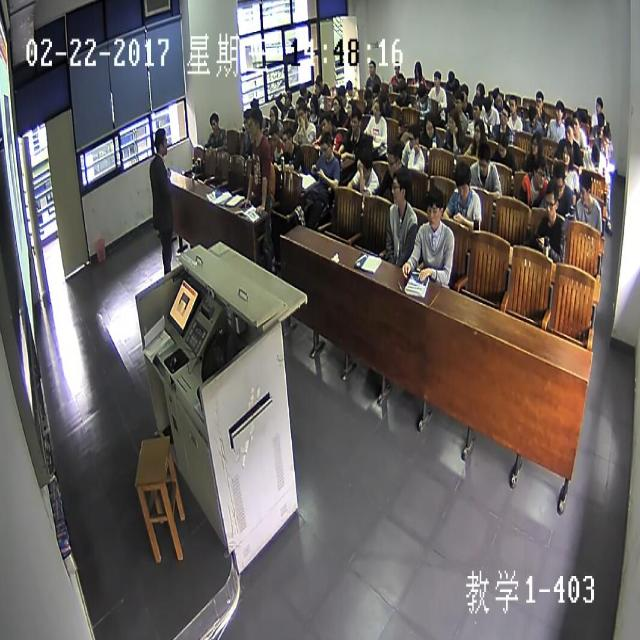person: (388, 164, 411, 207), (424, 188, 444, 231), (356, 143, 375, 181), (454, 163, 472, 202), (544, 181, 559, 219), (386, 139, 401, 176), (532, 152, 547, 186), (247, 110, 263, 141), (580, 168, 592, 206), (551, 166, 565, 198), (153, 127, 168, 156), (406, 125, 420, 154), (528, 130, 542, 158), (476, 145, 489, 175), (319, 131, 332, 160), (494, 131, 508, 157), (560, 140, 573, 167), (348, 108, 361, 134), (423, 113, 435, 141), (319, 110, 332, 135), (446, 107, 458, 134), (600, 126, 612, 151), (208, 109, 220, 133), (281, 130, 293, 153), (526, 102, 537, 127), (533, 86, 544, 111), (242, 109, 253, 133), (298, 101, 308, 127), (269, 124, 281, 145), (564, 117, 574, 142), (553, 98, 563, 122), (249, 97, 260, 118), (266, 104, 277, 125), (362, 85, 373, 106), (416, 83, 427, 104), (499, 104, 510, 125), (282, 86, 292, 108), (473, 120, 483, 142), (482, 92, 492, 114), (492, 86, 502, 108), (596, 111, 606, 132), (371, 98, 382, 117), (459, 81, 468, 104), (507, 93, 516, 116), (308, 94, 318, 114), (590, 143, 600, 163), (470, 100, 481, 118), (453, 90, 462, 111), (311, 80, 321, 98), (337, 85, 346, 104), (379, 88, 387, 109), (331, 97, 340, 115), (413, 60, 422, 78), (475, 79, 484, 97), (448, 68, 456, 88), (572, 112, 580, 131), (344, 79, 353, 95), (366, 60, 375, 76), (398, 81, 406, 99), (432, 70, 441, 86), (346, 99, 354, 116), (595, 96, 602, 115), (299, 82, 307, 98), (314, 72, 322, 88), (371, 79, 378, 97), (393, 59, 399, 74), (396, 75, 404, 86)
